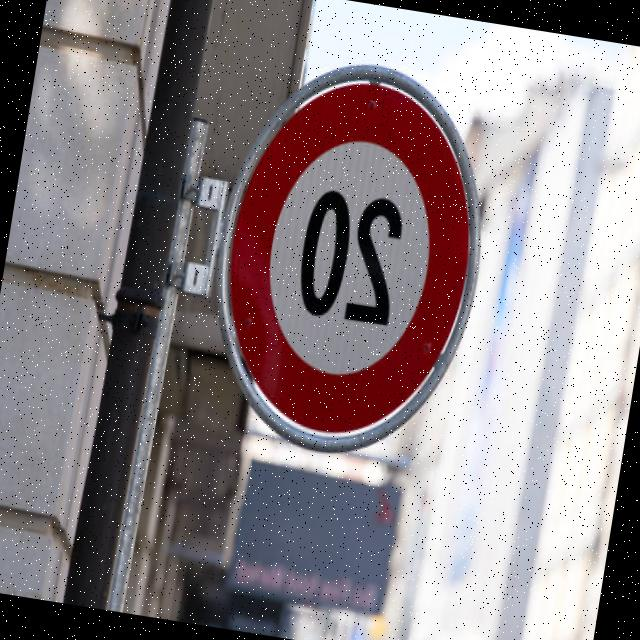speed_limit_20: (202, 52, 500, 455)
